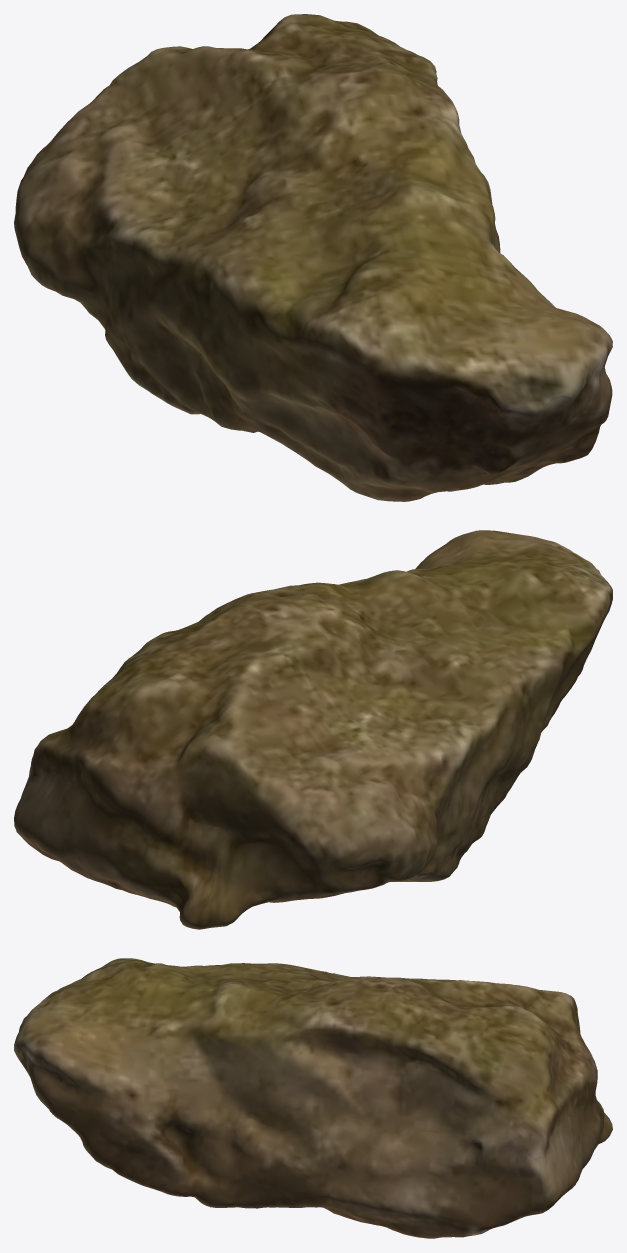
Rendered from MossRock_c.glb.
The picture shows the model from 3 angles, top to bottom: view 1: azimuth 30°, elevation 25°; view 2: azimuth 150°, elevation 25°; view 3: azimuth 270°, elevation 25°; orthographic projection. The views are drawn at different scales.
Parts seen in each view (by area): view 1: rock_moss_set_01_rock05; view 2: rock_moss_set_01_rock05; view 3: rock_moss_set_01_rock05.
Part boxes in pixels (<box>): rock_moss_set_01_rock05: <box>14,14,612,501</box>; rock_moss_set_01_rock05: <box>14,530,612,929</box>; rock_moss_set_01_rock05: <box>14,958,612,1238</box>.
Bounding box in the file's own units: 1.82 × 1.21 × 3.
Materials: 1 (1 with a texture image).
